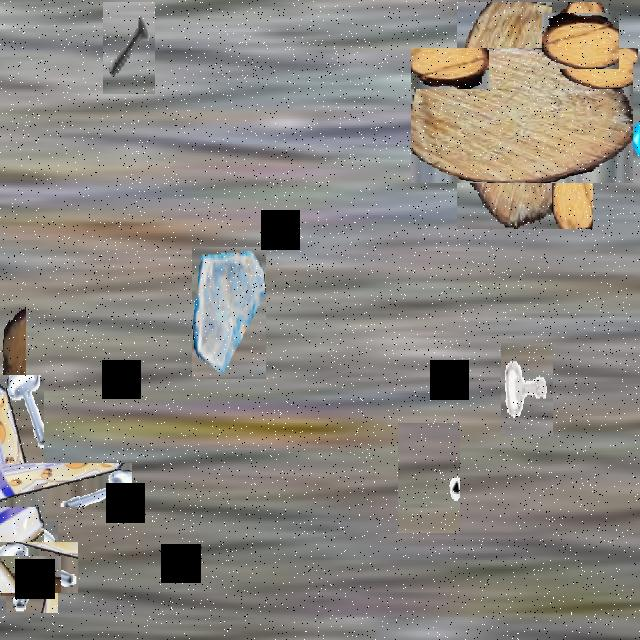glass: (192, 247, 266, 379), (633, 62, 640, 222)
metal: (398, 423, 460, 533), (0, 530, 68, 603), (501, 343, 553, 436), (103, 2, 155, 94)
plastic: (0, 419, 88, 551)
wood: (434, 25, 616, 206), (0, 304, 26, 489), (546, 7, 614, 74)
